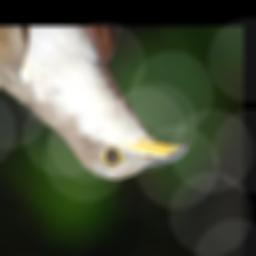Cuckoo: (0, 27, 187, 181)
